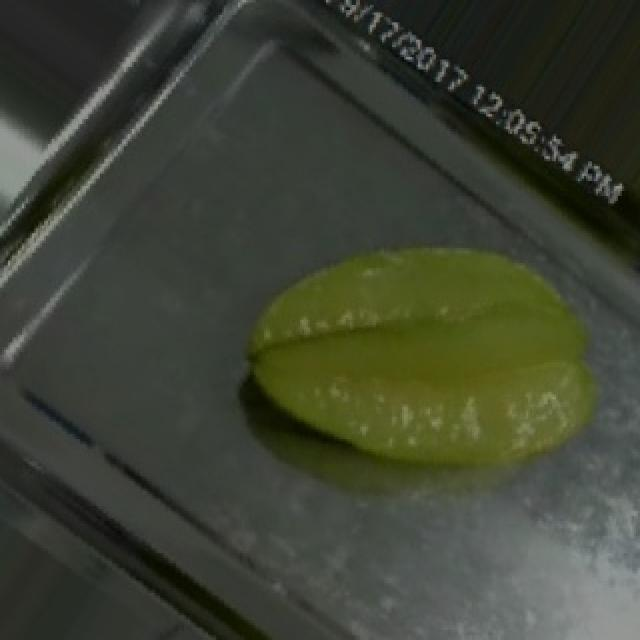fruit: (240, 164, 640, 543), (0, 0, 188, 164)
